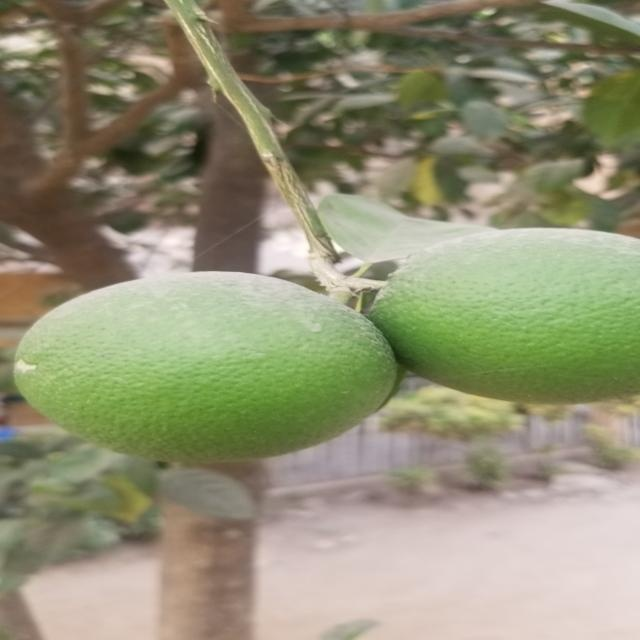agrume: (26, 267, 356, 487), (369, 227, 640, 384)
